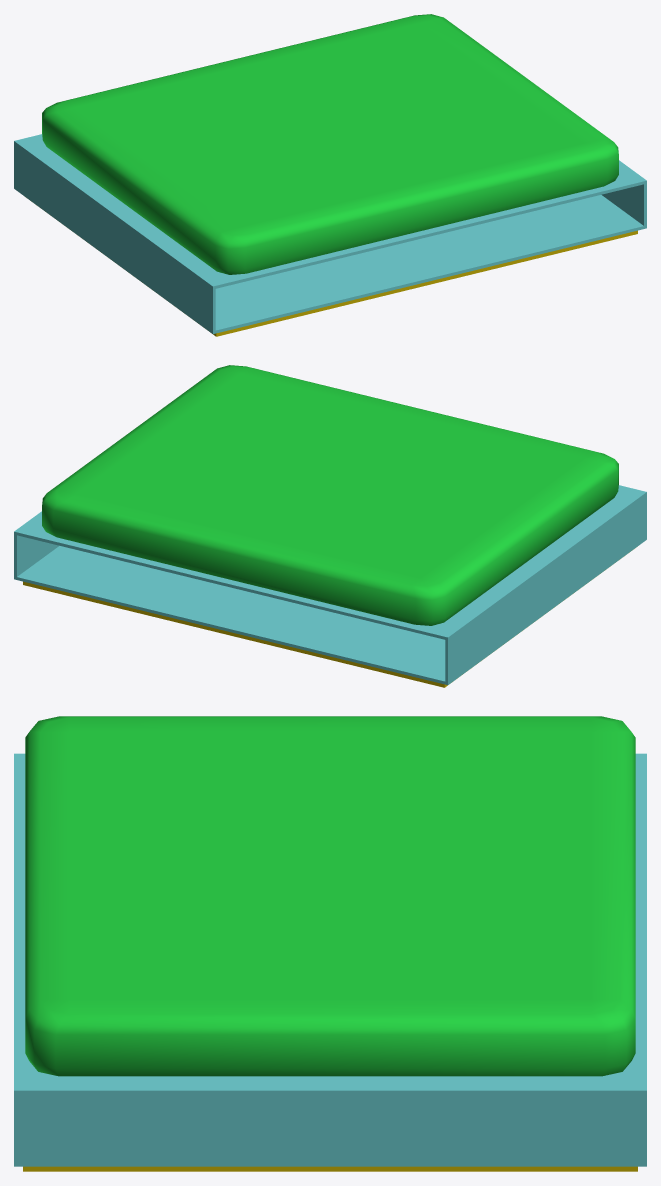
Rendered from MOD_FUR_Bed_01.fbx.
3 renders of one model, top to bottom at view 1: azimuth 30°, elevation 25°; view 2: azimuth 150°, elevation 25°; view 3: azimuth 270°, elevation 25°, orthographic. The views are drawn at different scales.
Parts seen in each view (by area): view 1: HSHP_MOD_Bed_01; view 2: HSHP_MOD_Bed_01; view 3: HSHP_MOD_Bed_01.
Part boxes in pixels (<box>): HSHP_MOD_Bed_01: <box>14,14,646,336</box>; HSHP_MOD_Bed_01: <box>14,365,646,687</box>; HSHP_MOD_Bed_01: <box>14,716,646,1171</box>.
Size of the model in its own units: 2.4 by 0.472 by 1.91.
